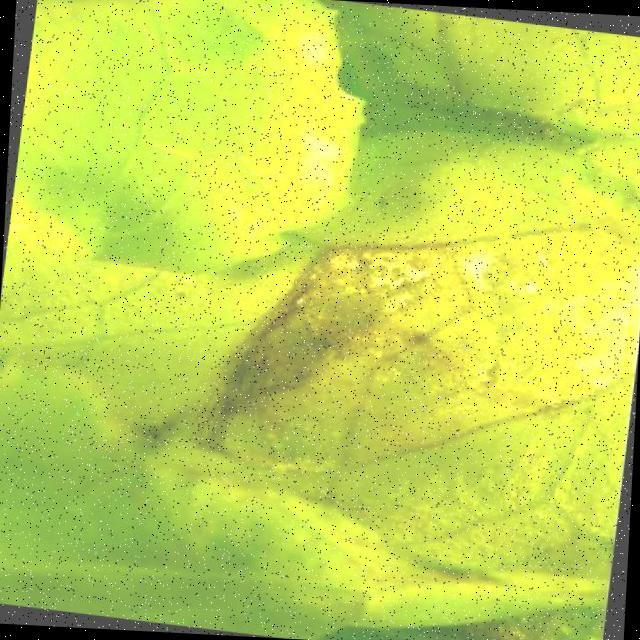Bacterial: (183, 213, 536, 520)
